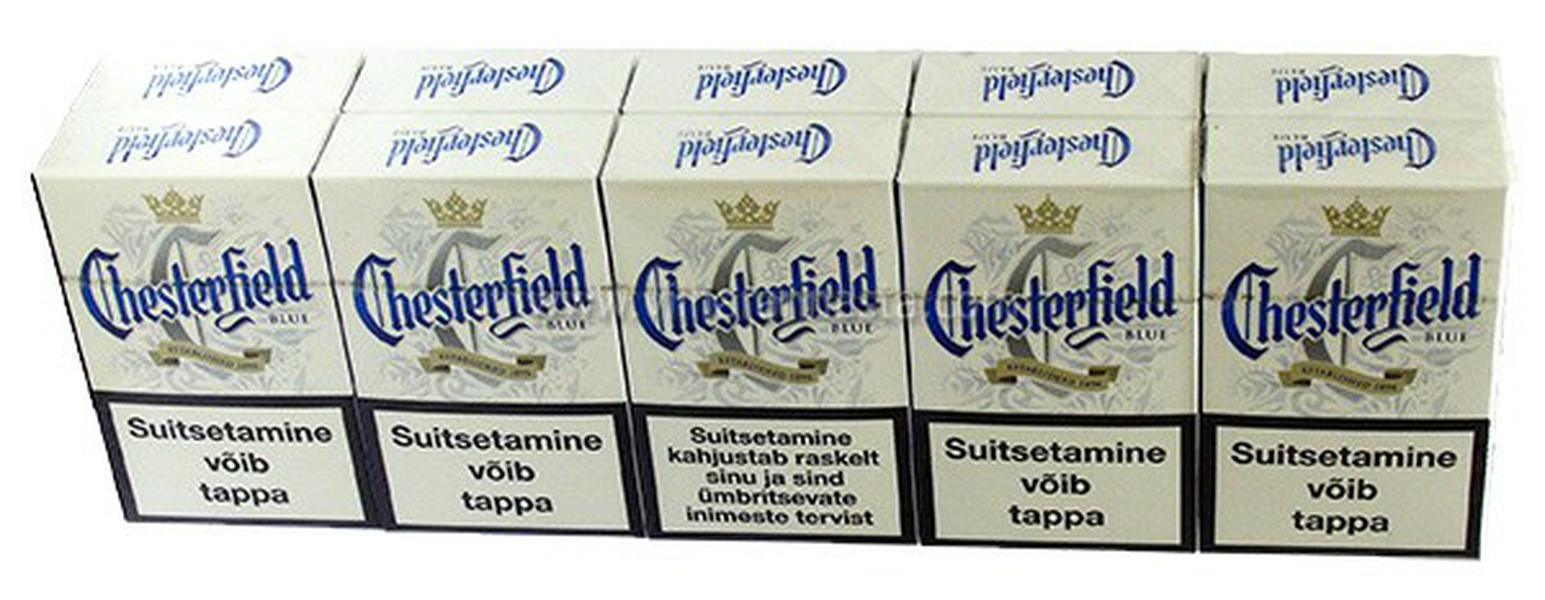chesterfield_blue: (617, 180, 913, 545), (1206, 187, 1492, 552), (906, 191, 1192, 545), (370, 177, 620, 534), (85, 173, 324, 527)
